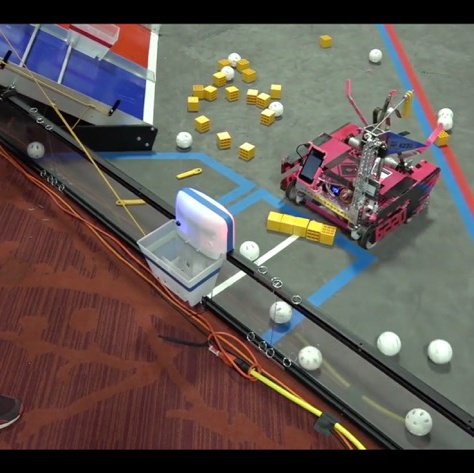robot: (276, 78, 447, 254)
